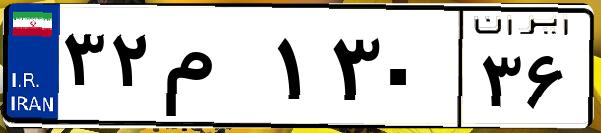0: (385, 28, 445, 110)
1: (270, 28, 330, 110)
2: (110, 28, 158, 98)
3: (330, 28, 385, 110), (57, 26, 110, 100), (475, 38, 525, 113)
6: (525, 38, 570, 115)
م: (158, 20, 270, 120)
